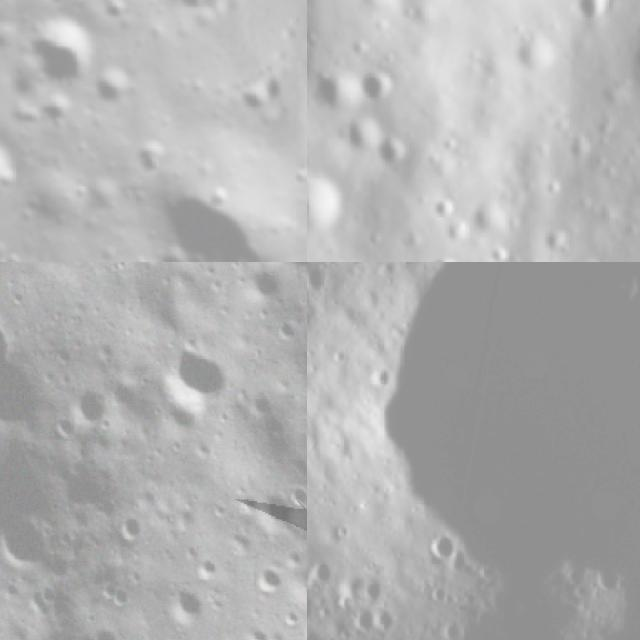crater: (148, 325, 250, 429), (0, 313, 66, 451), (25, 6, 110, 89), (0, 506, 64, 583), (307, 165, 360, 252), (152, 574, 214, 639), (307, 61, 368, 121), (235, 262, 296, 320), (0, 119, 28, 219), (507, 29, 561, 80), (420, 519, 464, 578), (243, 554, 292, 605), (90, 57, 140, 102), (371, 130, 417, 177), (357, 69, 401, 114), (530, 218, 572, 262), (6, 90, 47, 134), (111, 505, 152, 546), (75, 612, 135, 640), (539, 242, 611, 262), (135, 136, 170, 174), (416, 241, 476, 262), (202, 180, 236, 212), (102, 0, 139, 25), (626, 183, 640, 245), (171, 0, 209, 17), (44, 0, 73, 5)
